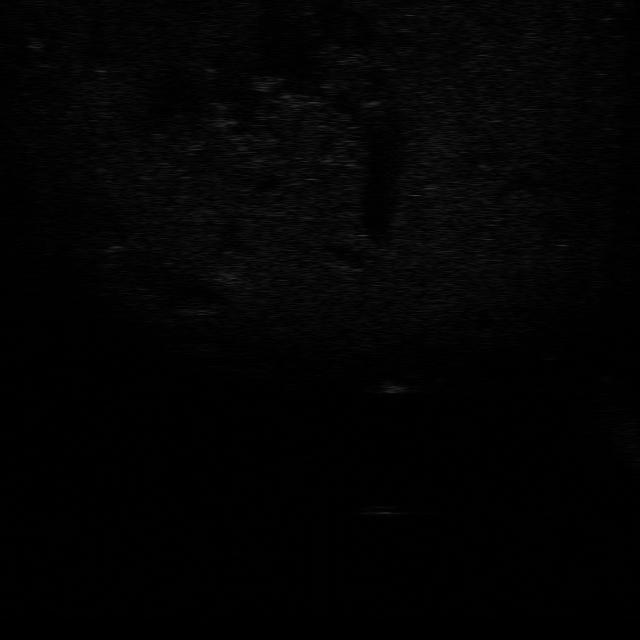cube: (356, 501, 409, 517)
square cage: (372, 378, 420, 397)
